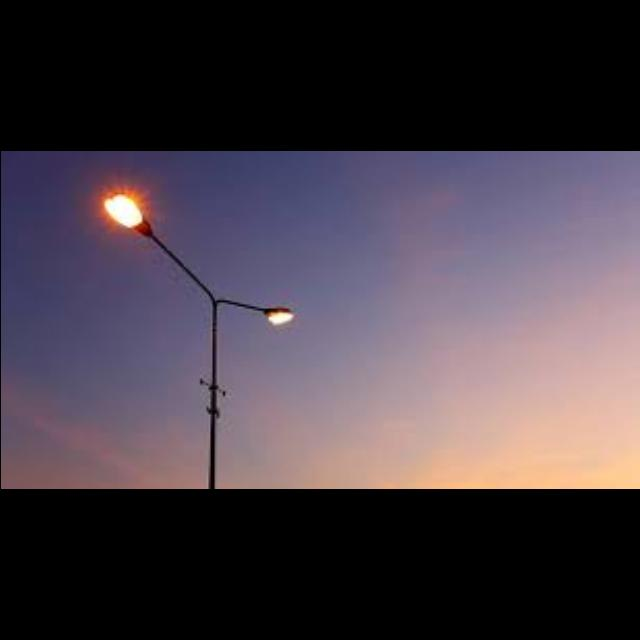Street-Lamp: (90, 176, 300, 489)
